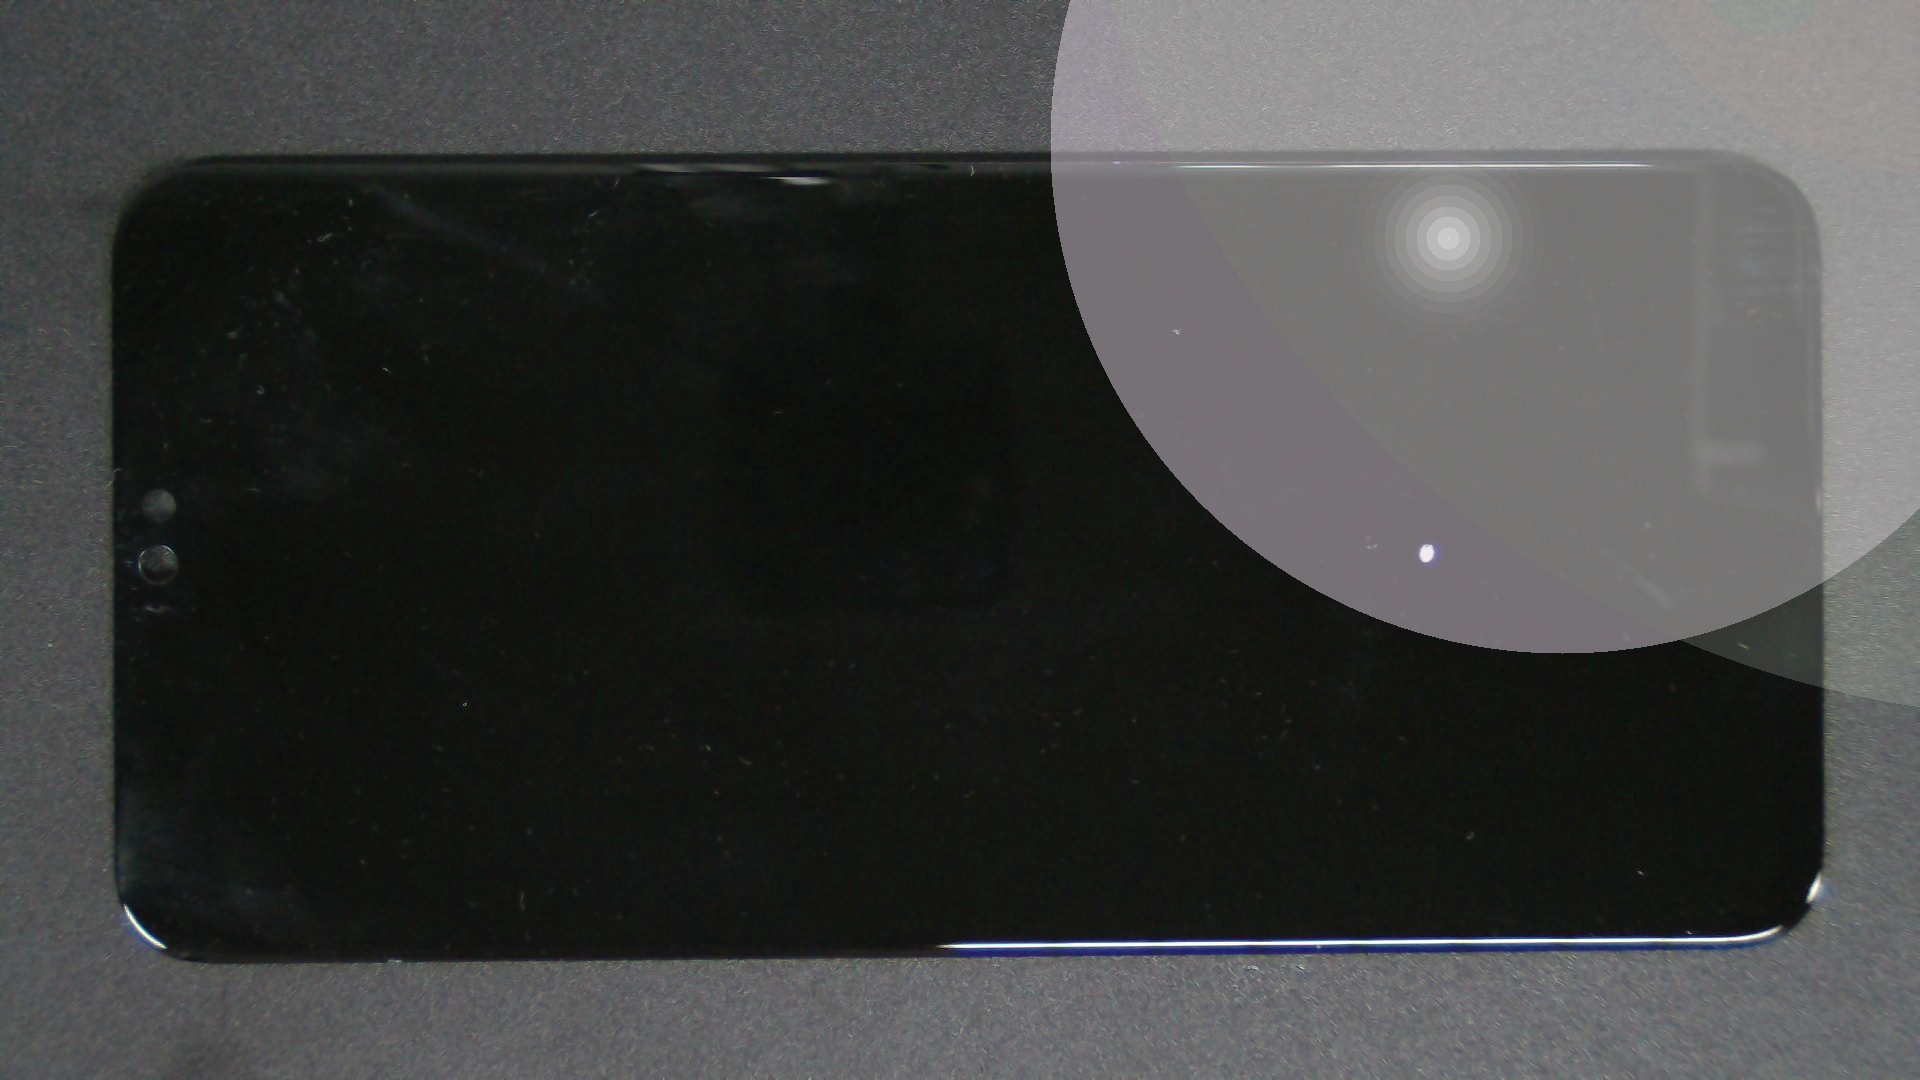oil: (715, 270, 1920, 814)
